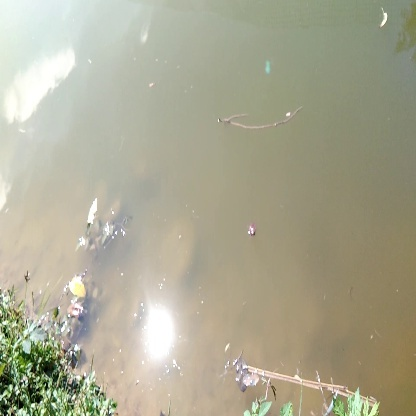branch: (215, 100, 309, 134)
